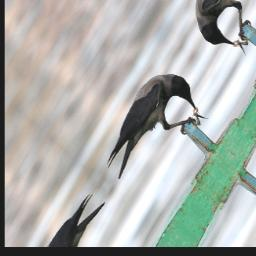Crow: (96, 55, 209, 205)
